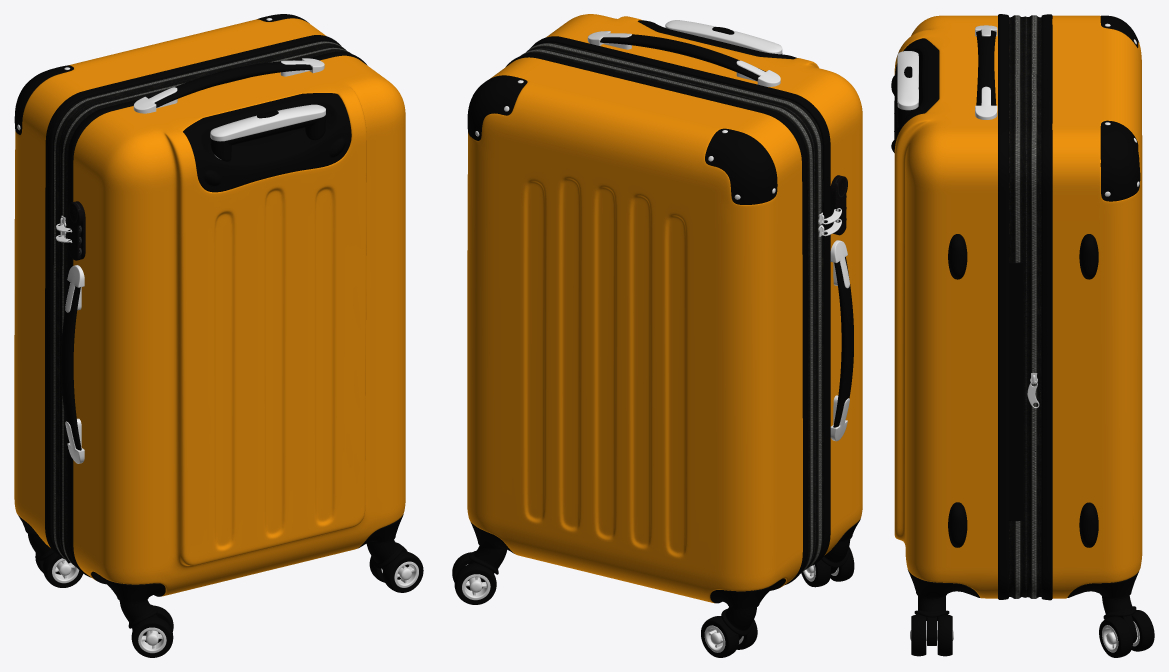
3 renders of one model, left to right at view 1: azimuth 30°, elevation 25°; view 2: azimuth 150°, elevation 25°; view 3: azimuth 270°, elevation 25°, orthographic.
Visible parts, largest first — view 1: Spinner Suitcase; view 2: Spinner Suitcase; view 3: Spinner Suitcase.
Part boxes in pixels (x1,y1,x2,y2): Spinner Suitcase: (14, 14, 423, 657); Spinner Suitcase: (452, 14, 862, 657); Spinner Suitcase: (891, 14, 1154, 657).
Bounding box in the file's own units: 0.464 × 0.7169 × 0.3231.
5 materials, 2 textured.
